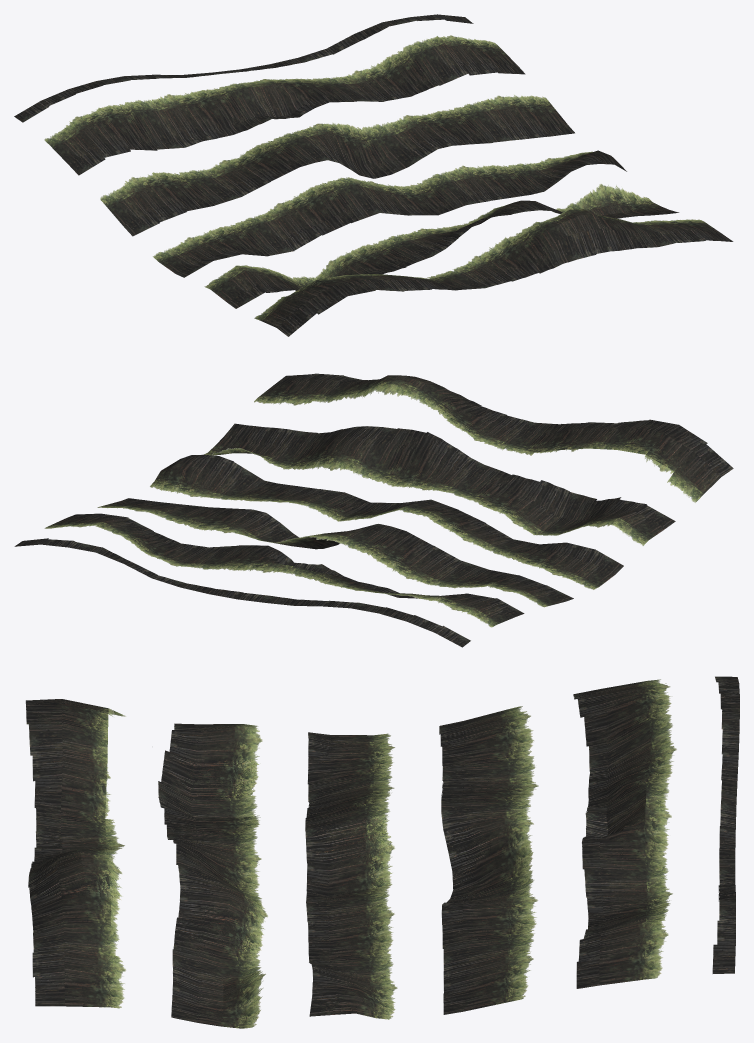
The model's file is SM_NeoLD_02_Block_00.fbx.
3 views of the same model, one above another, from view 1: azimuth 30°, elevation 25°; view 2: azimuth 150°, elevation 25°; view 3: azimuth 270°, elevation 25° (orthographic). The views are drawn at different scales.
Visible parts, largest first — view 1: SM_NeoLD_02_Block_00; view 2: SM_NeoLD_02_Block_00; view 3: SM_NeoLD_02_Block_00.
Part boxes in pixels (left/top/right/bottom): SM_NeoLD_02_Block_00: left=14, top=14, right=733, bottom=336; SM_NeoLD_02_Block_00: left=14, top=373, right=733, bottom=647; SM_NeoLD_02_Block_00: left=25, top=676, right=739, bottom=1028.
Bounding box in the file's own units: 7018 × 1070 × 7579.
